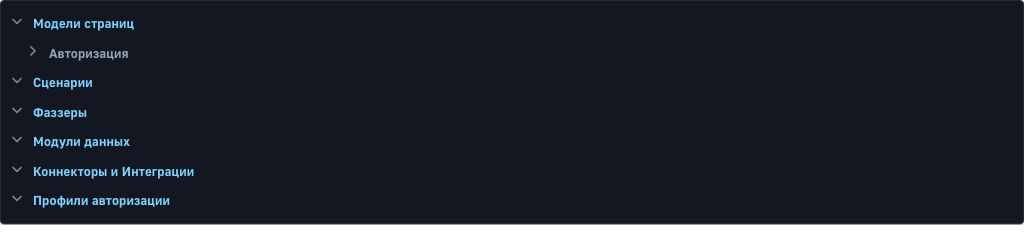
StudioBlocksTree folders › сворачивает и повторно раскрывает целый раздел Explorer
Click the icon next to "Модели страниц".
click(17, 21)  # box [9, 13, 25, 29]
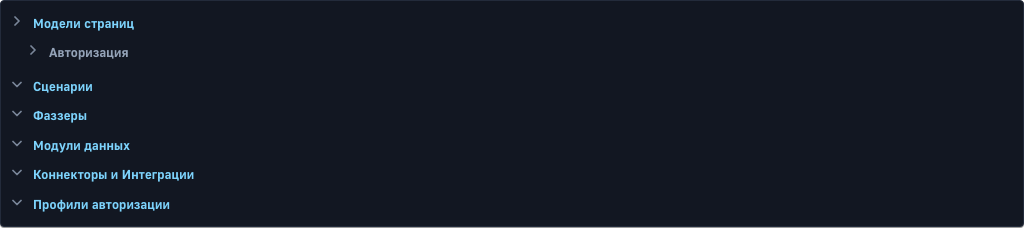
Expected: the list item "Модели страниц" is collapsed, [9, 13, 134, 31]
Click the icon next to "Модели страниц".
click(17, 21)  # box [9, 13, 25, 29]
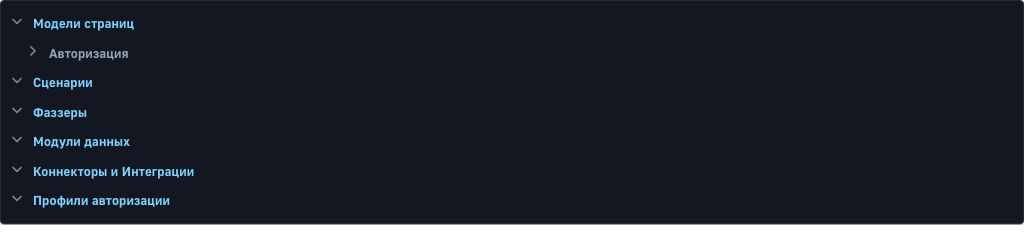
Expected: the text "Авторизация" is shown, [49, 44, 129, 60]
Expected: the list item "Модели страниц" is expanded, [9, 13, 134, 31]
